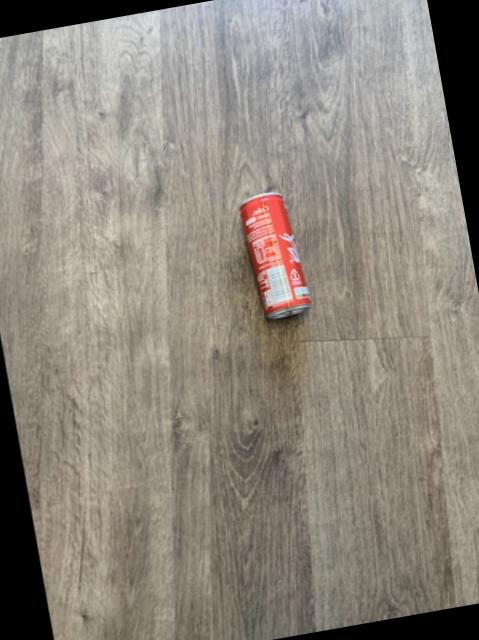metal: (238, 194, 308, 320)
